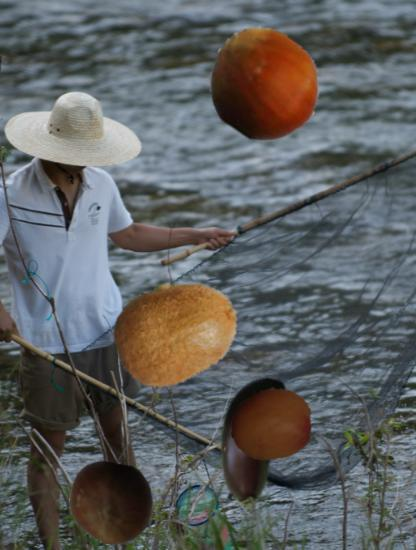Apricot: (230, 383, 314, 467)
Eggplant: (178, 371, 318, 511)
Kiwi: (112, 268, 242, 398)
Nut: (207, 27, 322, 142), (69, 461, 154, 546)
